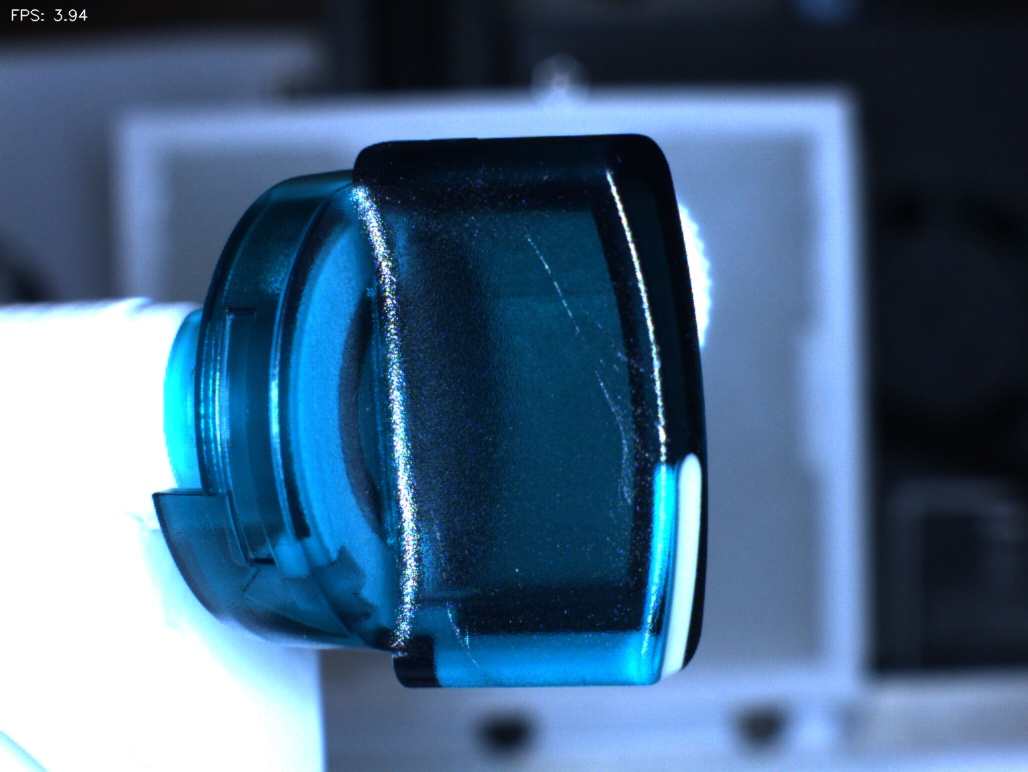Givrage: (519, 230, 652, 503)
